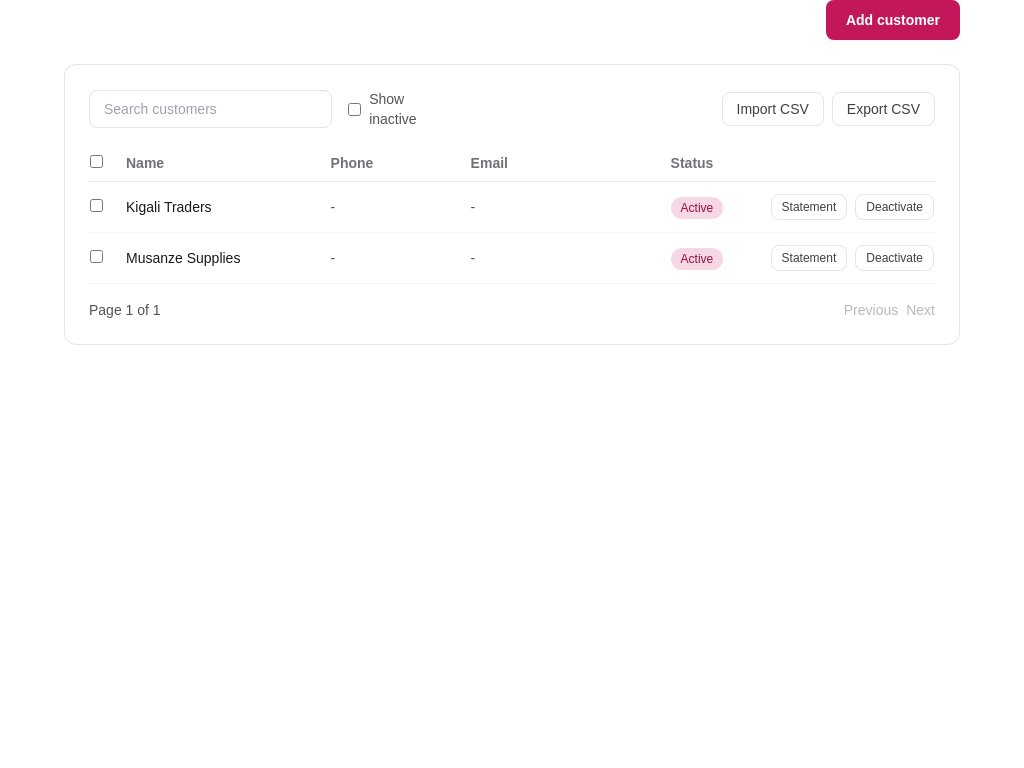
Test case: Customers › selects rows and bulk-deactivates them, with Undo reactivating the batch
The image size is (1024, 768).
Check: the button "Kigali Traders" is shown, box 126,197 -> 212,217
Click the checkbox named "Select all on this page" at (96, 162), box 90,155 -> 103,168
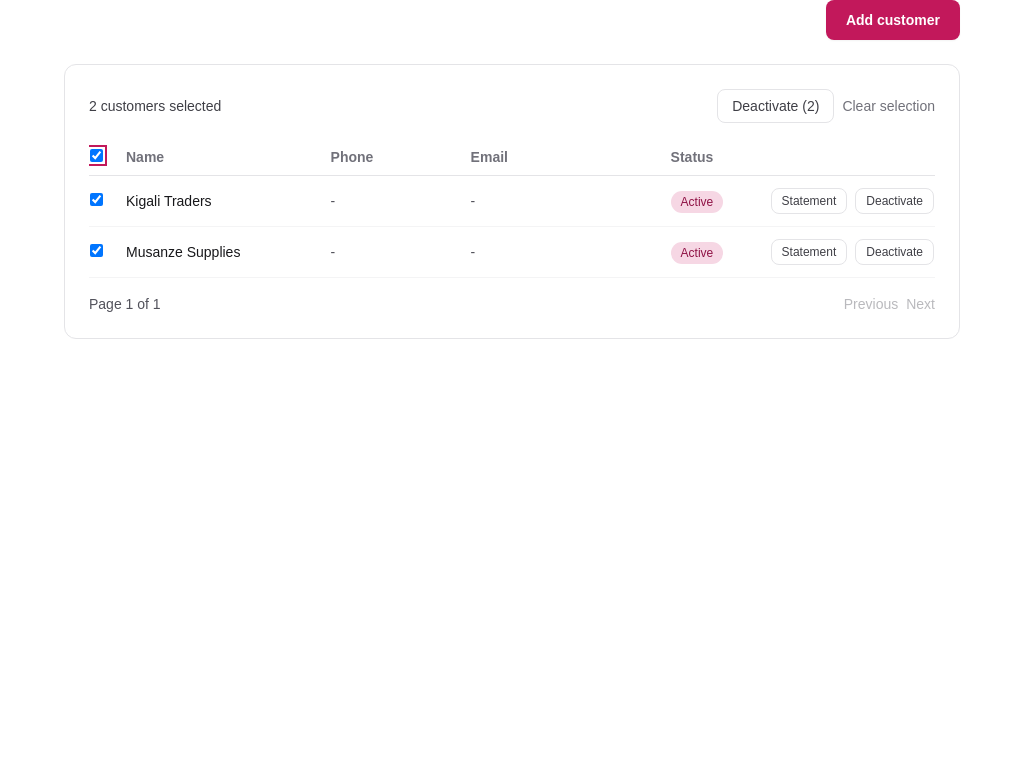
Check: the text "2 customers selected" is shown, box 89,96 -> 221,116
Click the button "Deactivate (2)" at (776, 106), box 717,89 -> 834,123
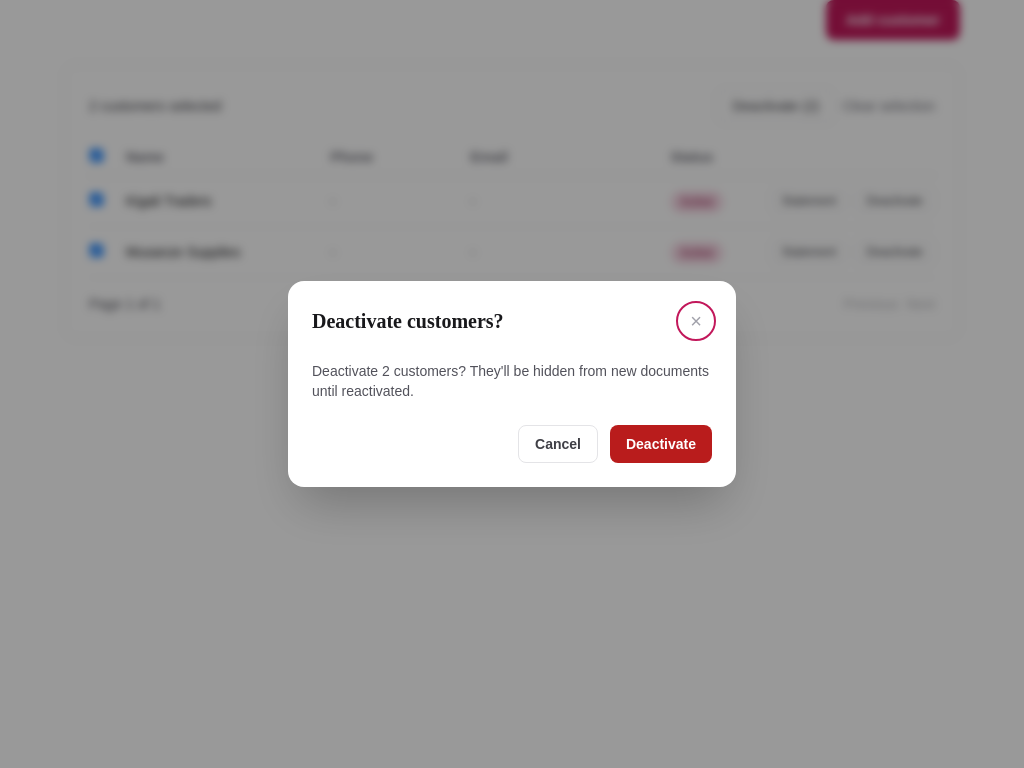
Click the button "Deactivate" at (661, 444), box 610,425 -> 712,463
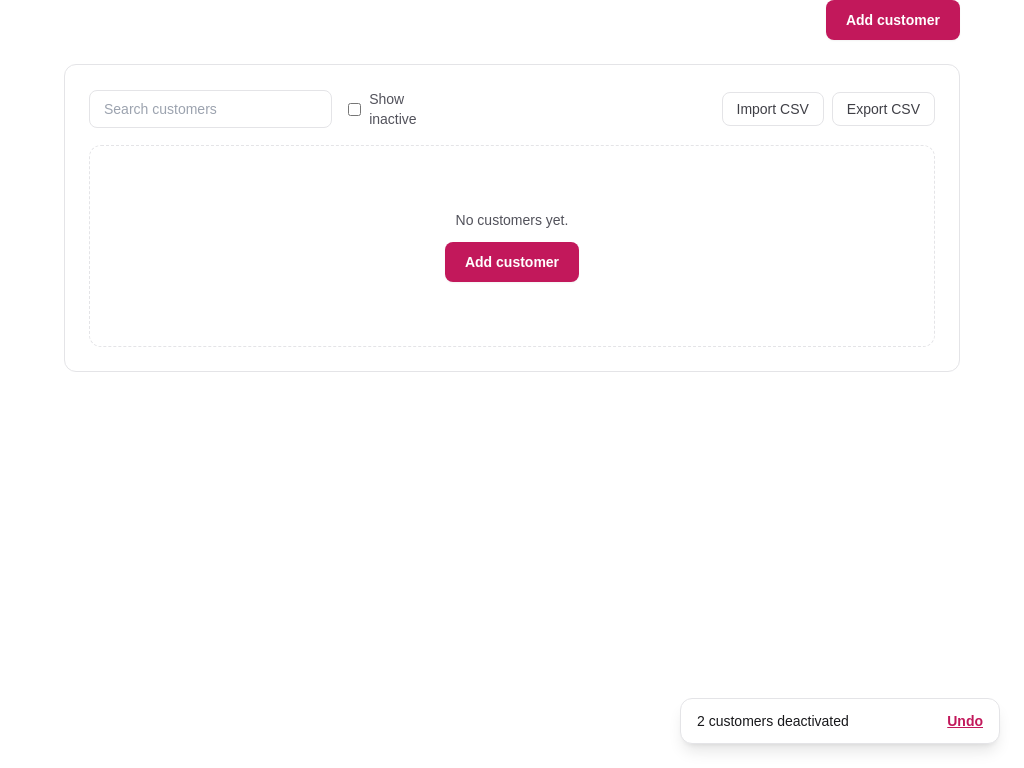
Check: the text "No customers yet." is shown, box 456,210 -> 568,230
Check: the text "2 customers deactivated" is shown, box 697,713 -> 849,729
Click the button "Undo" at (965, 721), box 947,711 -> 983,731
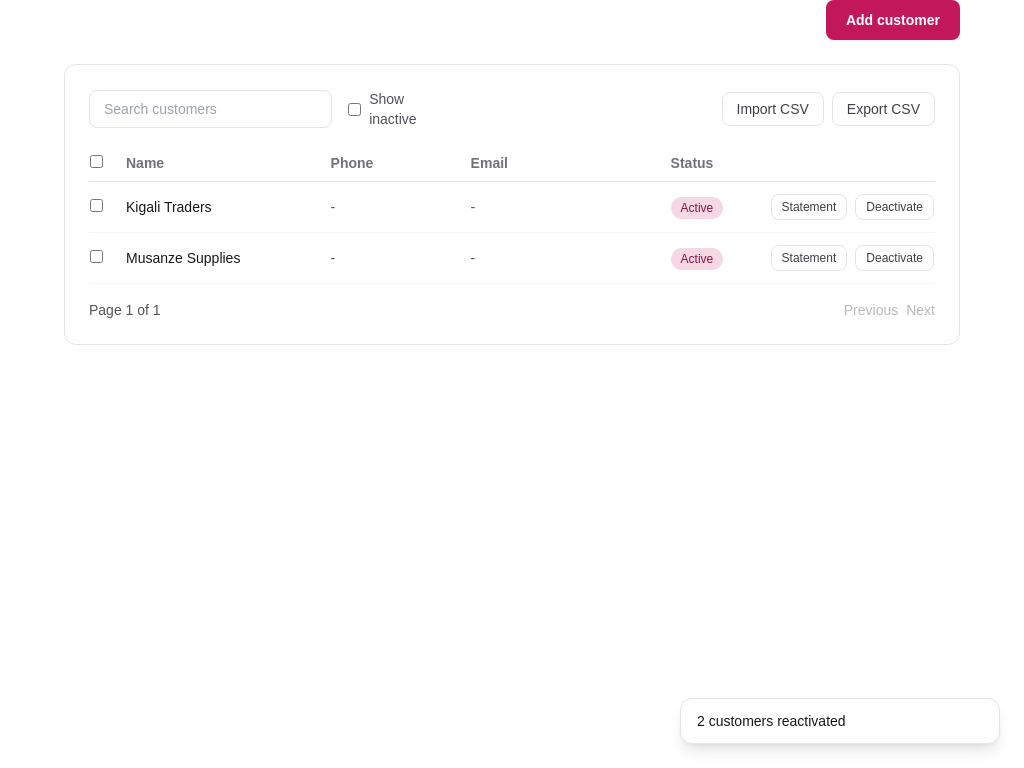
Check: the button "Kigali Traders" is shown, box 126,197 -> 212,217
Check: the button "Musanze Supplies" is shown, box 126,248 -> 240,268
Check: the text "2 customers reactivated" is shown, box 697,713 -> 846,729
